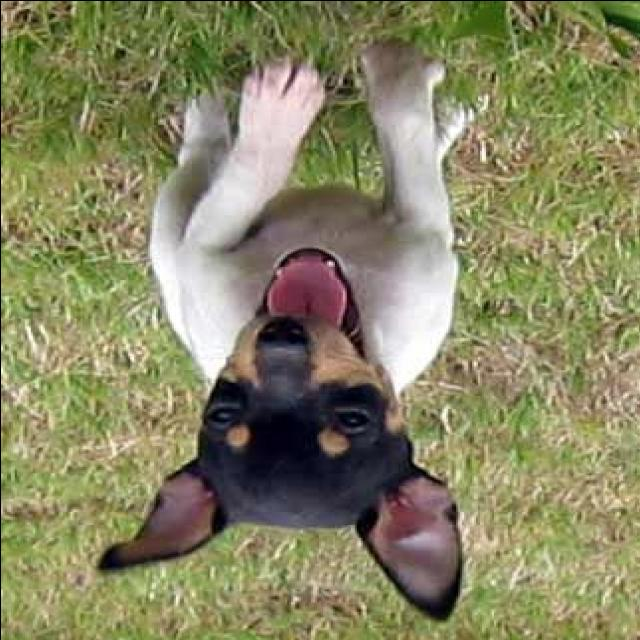toy_terrier: (95, 39, 485, 619)
